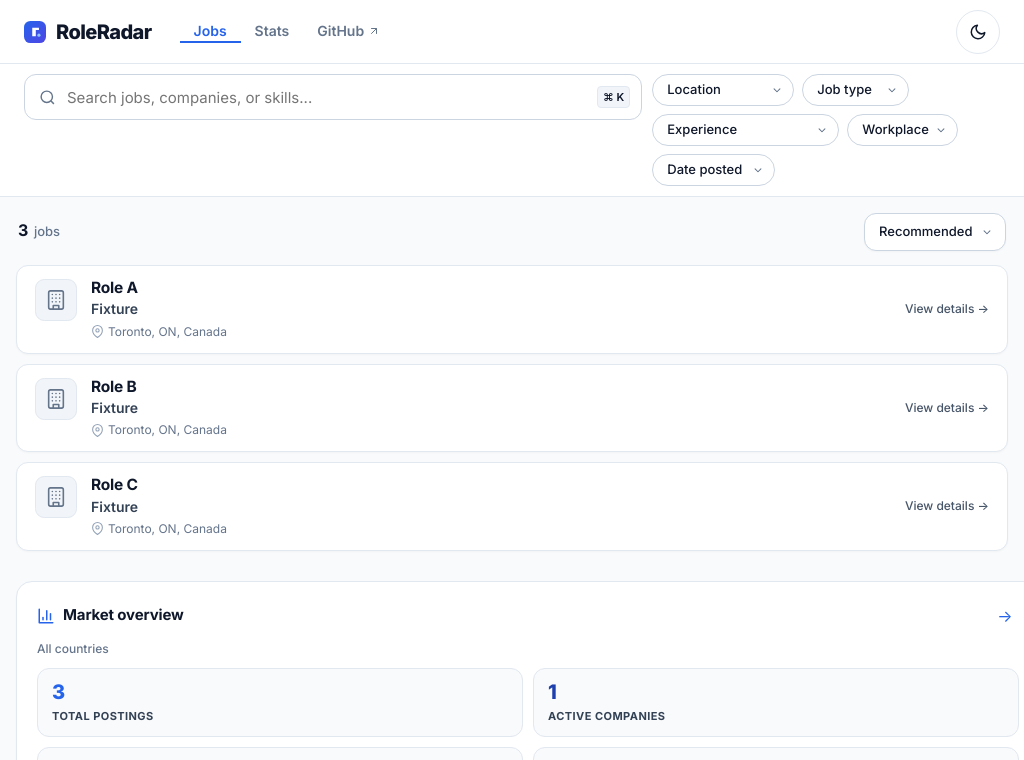
Test case: mobile keeps the single-column overlay › opens the detail as a dialog, without a split pane, and Esc closes it
Click the button with aria-label "View details for Role A" at (114,288), box x1=91 y1=278 x2=138 y2=297
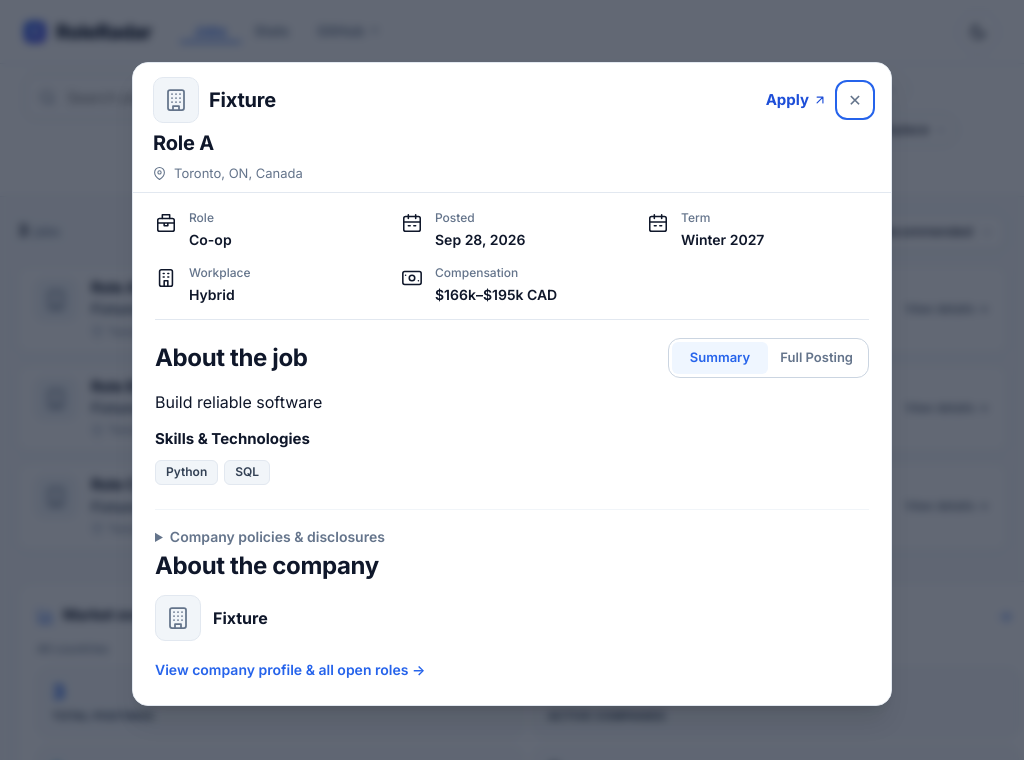
Check: the heading "Role A" is shown, box x1=153 y1=131 x2=214 y2=155
Press Escape
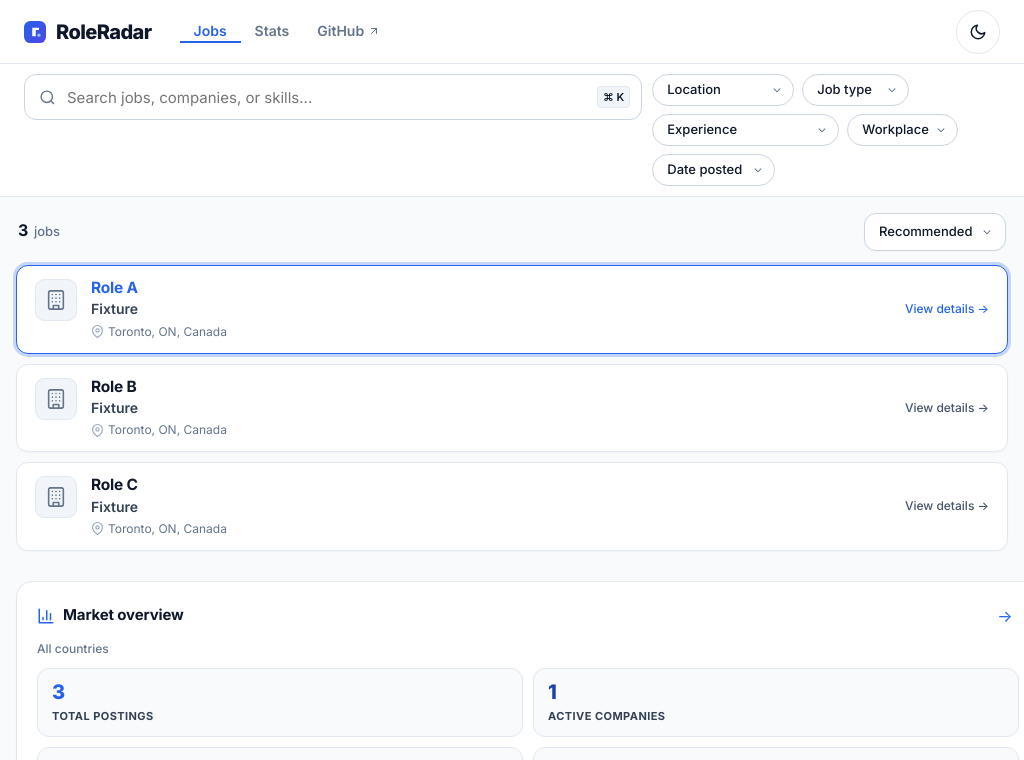
Check: the dialog is gone
